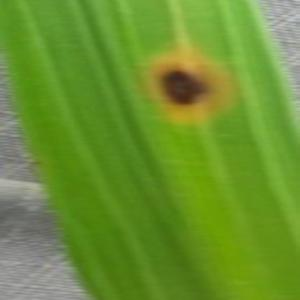Brown_Spot: (142, 51, 224, 122)
